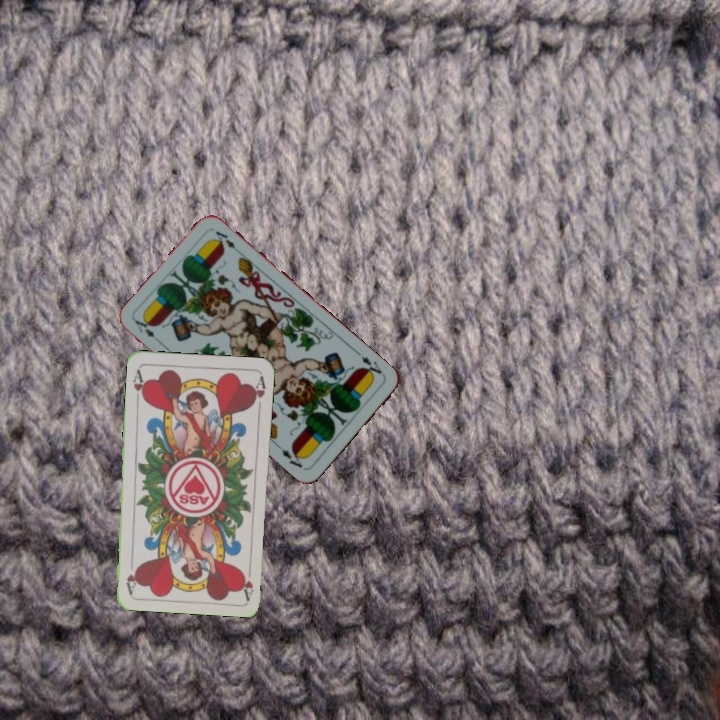EA: (357, 352, 387, 381), (131, 315, 157, 340)
HA: (129, 365, 148, 406), (237, 560, 256, 601)
